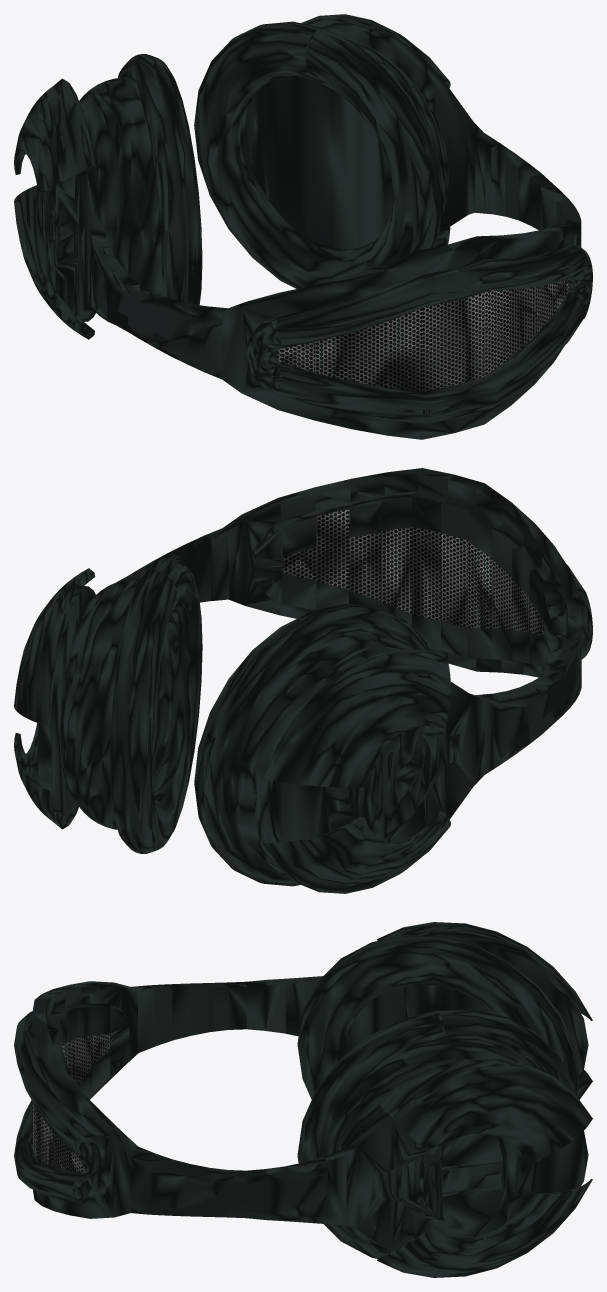
The model's file is model_align.obj.
3 renders of one model, top to bottom at view 1: azimuth 30°, elevation 25°; view 2: azimuth 150°, elevation 25°; view 3: azimuth 270°, elevation 25°, orthographic. The views are drawn at different scales.
Size of the model in its own units: 0.1314 by 0.0788 by 0.1653.
Materials: 7 (7 with a texture image).
